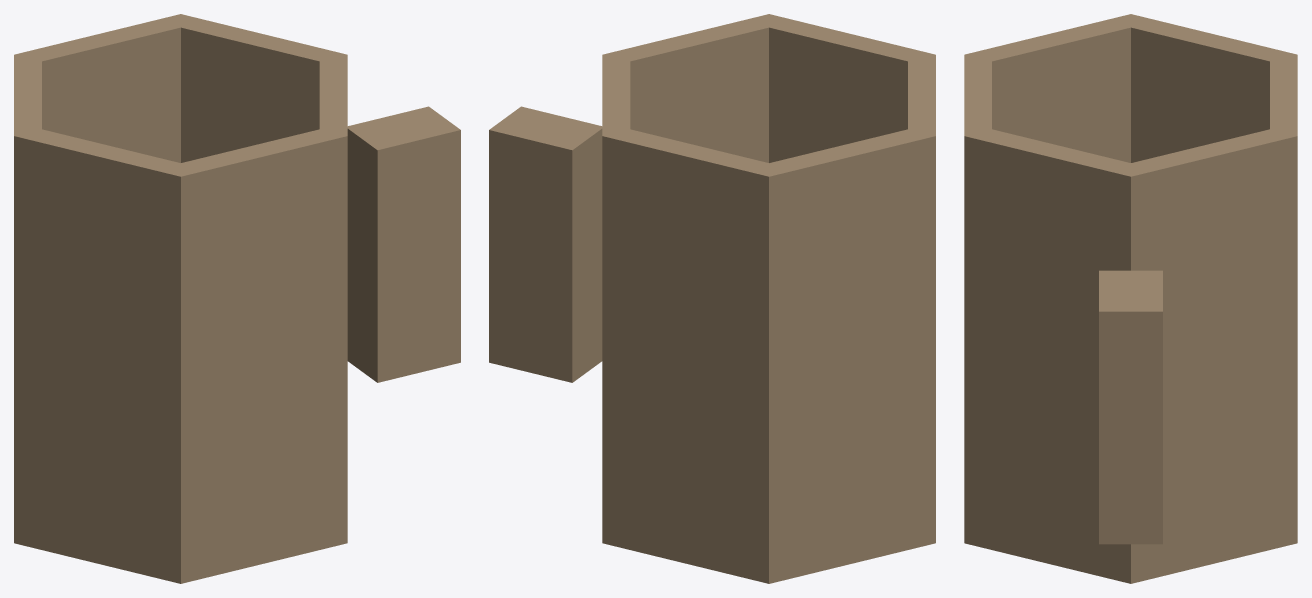
File: mug.glb
3 views of the same model, side by side, from view 1: azimuth 30°, elevation 25°; view 2: azimuth 150°, elevation 25°; view 3: azimuth 270°, elevation 25° (orthographic).
Parts seen in each view (by area): view 1: Mug; view 2: Mug; view 3: Mug.
Part boxes in pixels (x1,y1,x2,y2): Mug: (14, 14, 460, 583); Mug: (489, 14, 935, 583); Mug: (964, 14, 1297, 583).
Size of the model in its own units: 0.155 by 0.14 by 0.1039.
